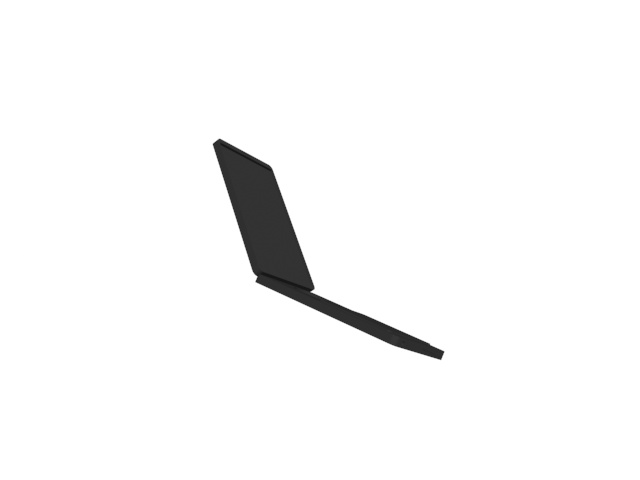mobile_phone: (209, 137, 448, 367)
